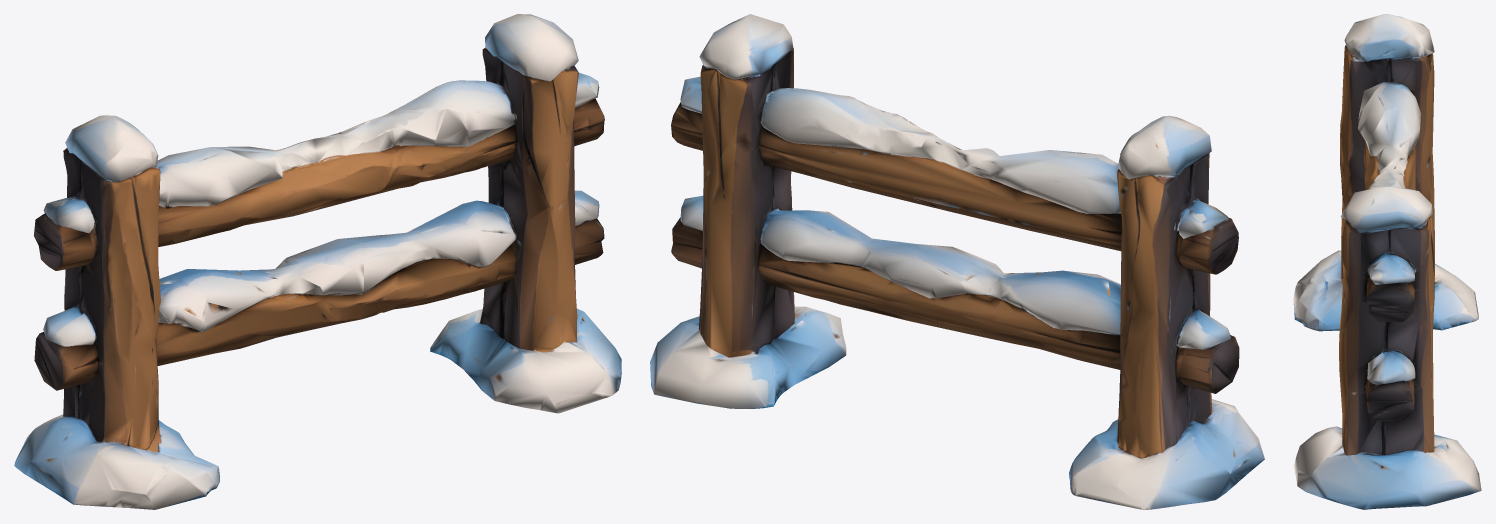
The model's file is fence.glb.
3 views of the same model, side by side, from view 1: azimuth 30°, elevation 25°; view 2: azimuth 150°, elevation 25°; view 3: azimuth 270°, elevation 25° (orthographic). The views are drawn at different scales.
Visible parts, largest first — view 1: node_0; view 2: node_0; view 3: node_0.
Part boxes in pixels (x1,y1,x2,y2): node_0: [14, 14, 621, 509]; node_0: [650, 14, 1264, 509]; node_0: [1293, 14, 1481, 509].
Bounding box in the file's own units: 1.03 × 0.6054 × 0.3512.
1 material, 1 textured.
